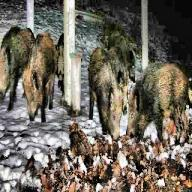boar: (128, 60, 192, 145)
